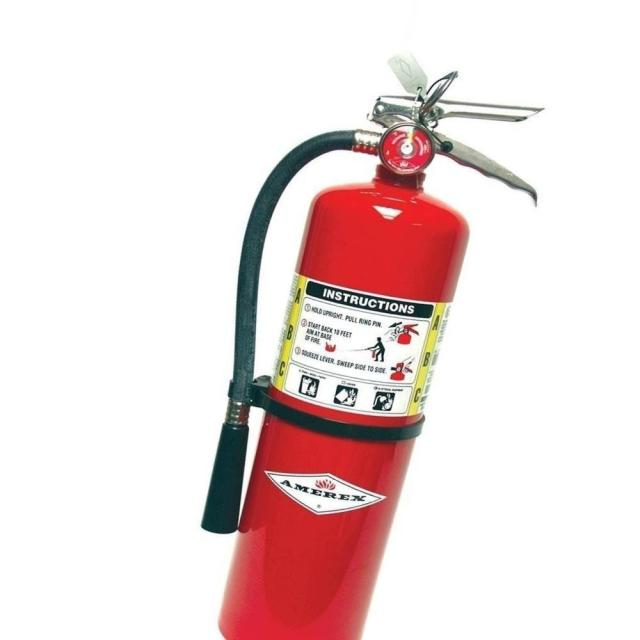fire_extinguisher: (187, 38, 555, 637)
